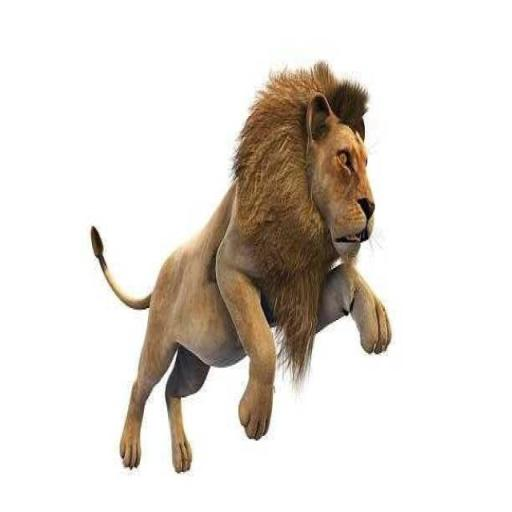Lion: (89, 58, 392, 473)
